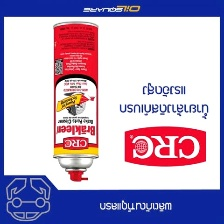aerosol_cans: (50, 19, 101, 184)
